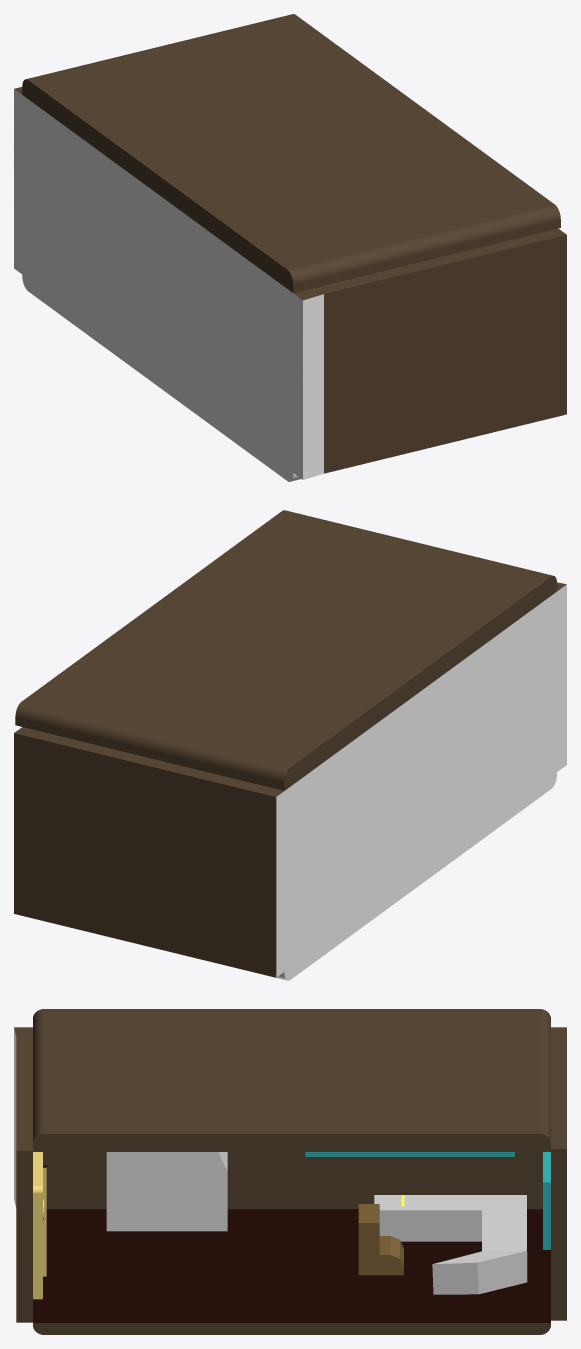
File: CAR2glb.glb
The picture shows the model from 3 angles, top to bottom: view 1: azimuth 30°, elevation 25°; view 2: azimuth 150°, elevation 25°; view 3: azimuth 270°, elevation 25°; orthographic projection. The views are drawn at different scales.
Parts seen in each view (by area): view 1: Cube.001; view 2: Cube.001; view 3: Cube.001, Cube, Cube.002, Cube.006, Cube.003, Cube.004, Cube.005.
Boxes of the visible parts, <box> form: Cube.001: <box>14,14,566,481</box>; Cube.001: <box>14,510,566,980</box>; Cube.001: <box>14,1009,566,1334</box>; Cube: <box>374,1195,527,1294</box>; Cube.002: <box>106,1152,227,1231</box>; Cube.006: <box>358,1204,403,1275</box>; Cube.003: <box>33,1152,46,1299</box>; Cube.004: <box>305,1152,514,1156</box>; Cube.005: <box>543,1152,550,1249</box>.
Bounding box in the file's own units: 13.06 × 9.86 × 24.45.
1 material, 1 textured.
